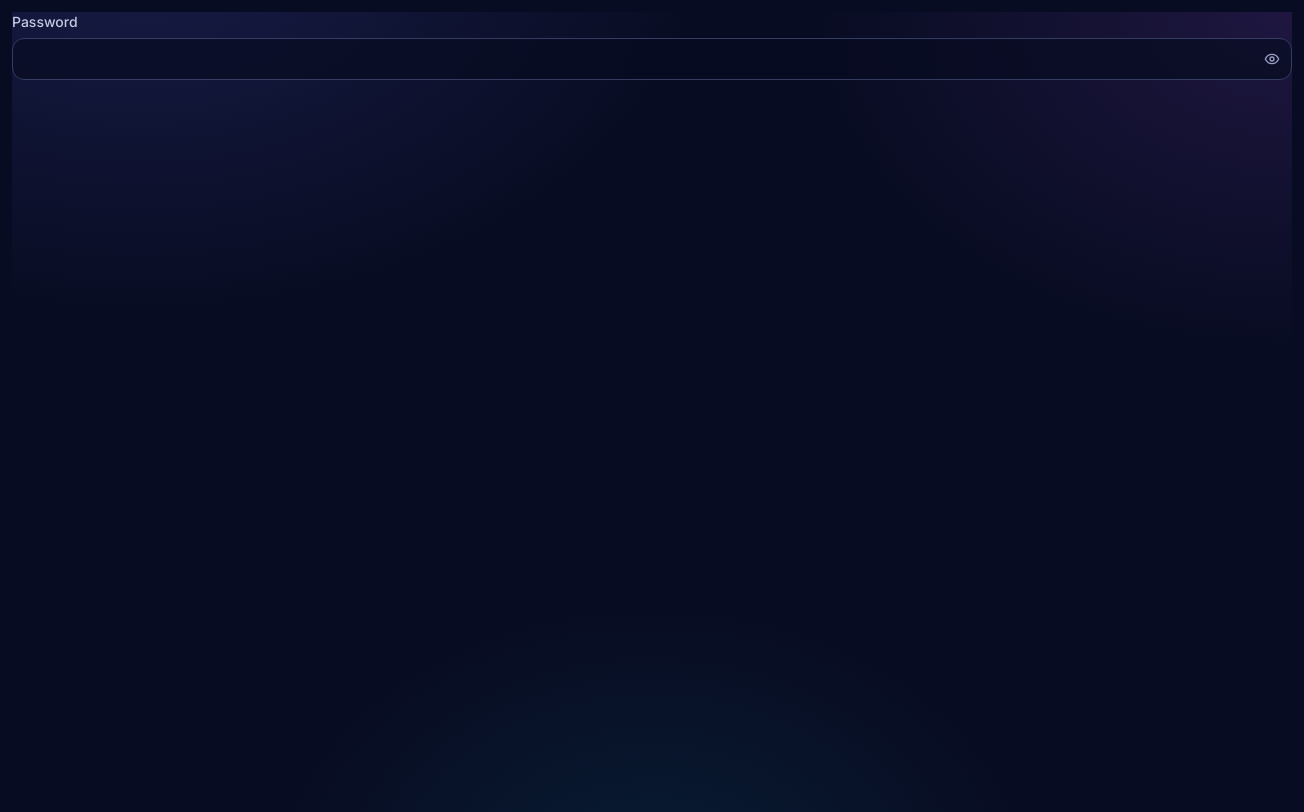
Test: PasswordField › updates the value as the user types
The image size is (1304, 812).
In the password field labelled "Password": (652, 59) [12,38,1292,80], type "abc"
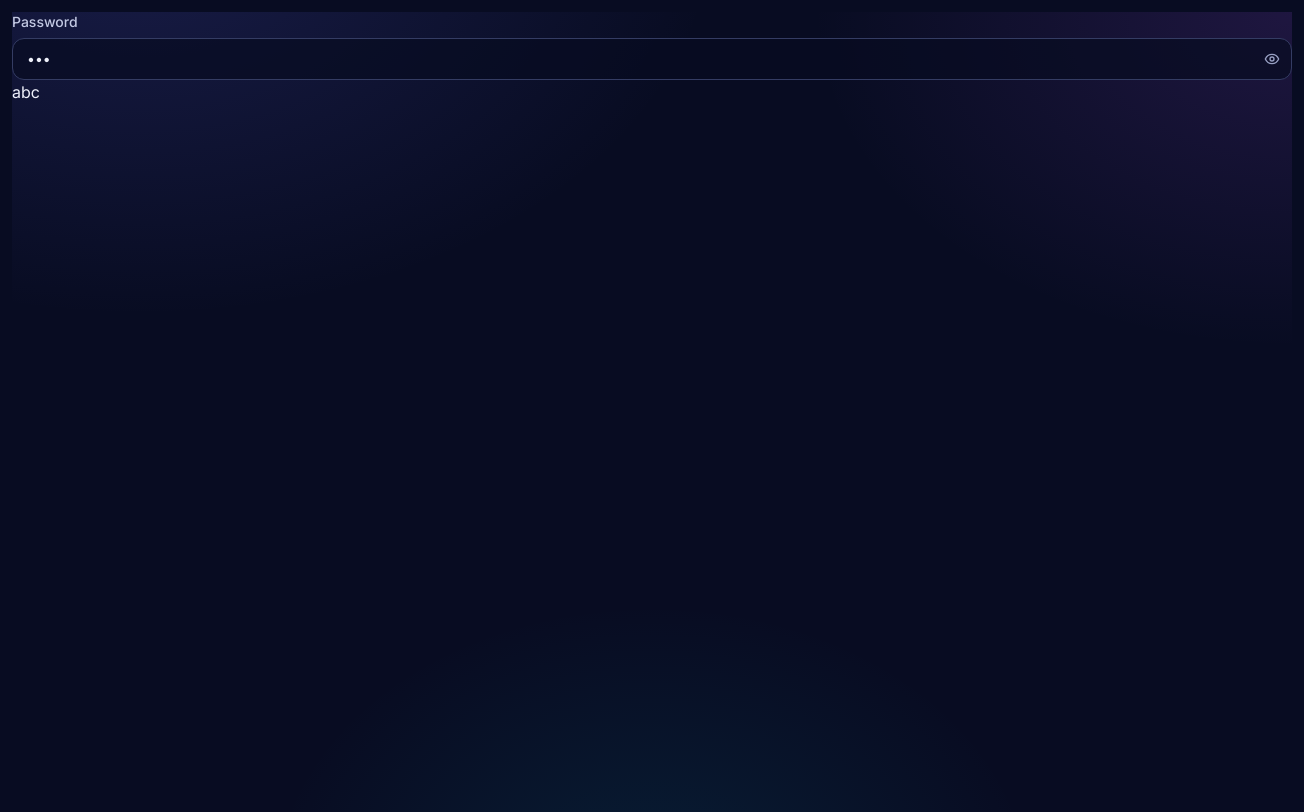
Check: the text with test id "value" reads "abc", box [12,82,40,102]
